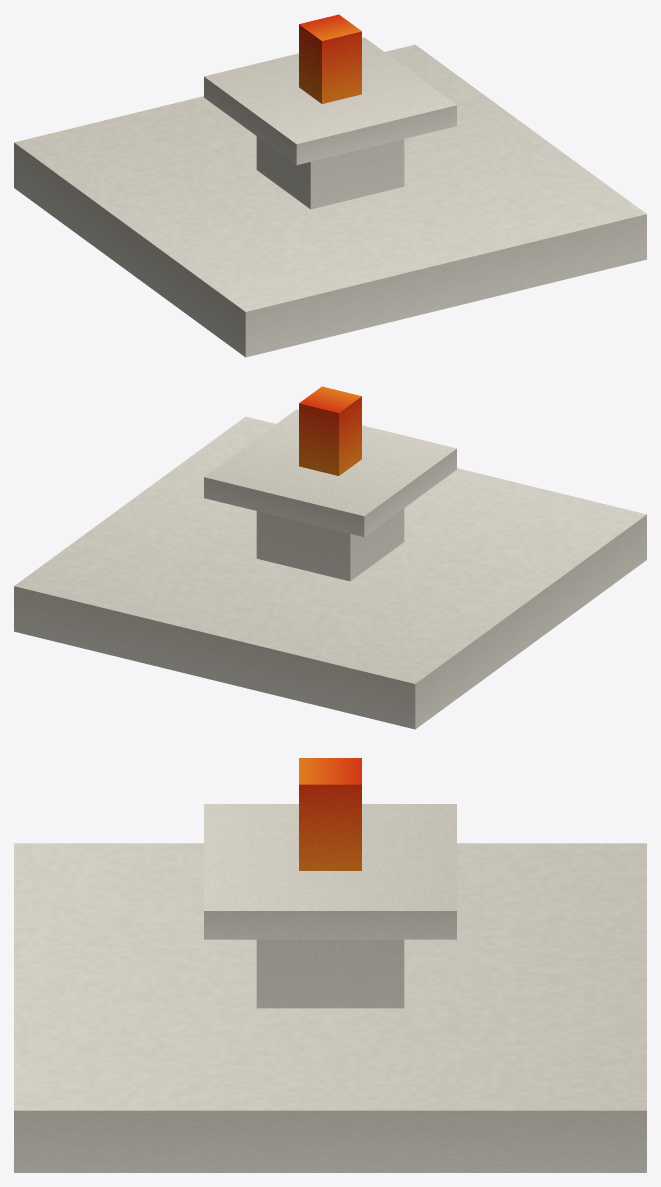
Rendered from stone_fountain.gltf.
The picture shows the model from 3 angles, top to bottom: view 1: azimuth 30°, elevation 25°; view 2: azimuth 150°, elevation 25°; view 3: azimuth 270°, elevation 25°; orthographic projection. The views are drawn at different scales.
Parts seen in each view (by area): view 1: stone_fountain; view 2: stone_fountain; view 3: stone_fountain.
Part boxes in pixels (box(x1,y1,x2,y2)): stone_fountain: box(14, 14, 646, 357); stone_fountain: box(14, 386, 646, 729); stone_fountain: box(14, 758, 646, 1172).
Bounding box in the file's own units: 6 × 2.8 × 6.
Materials: 1 (1 with a texture image).
